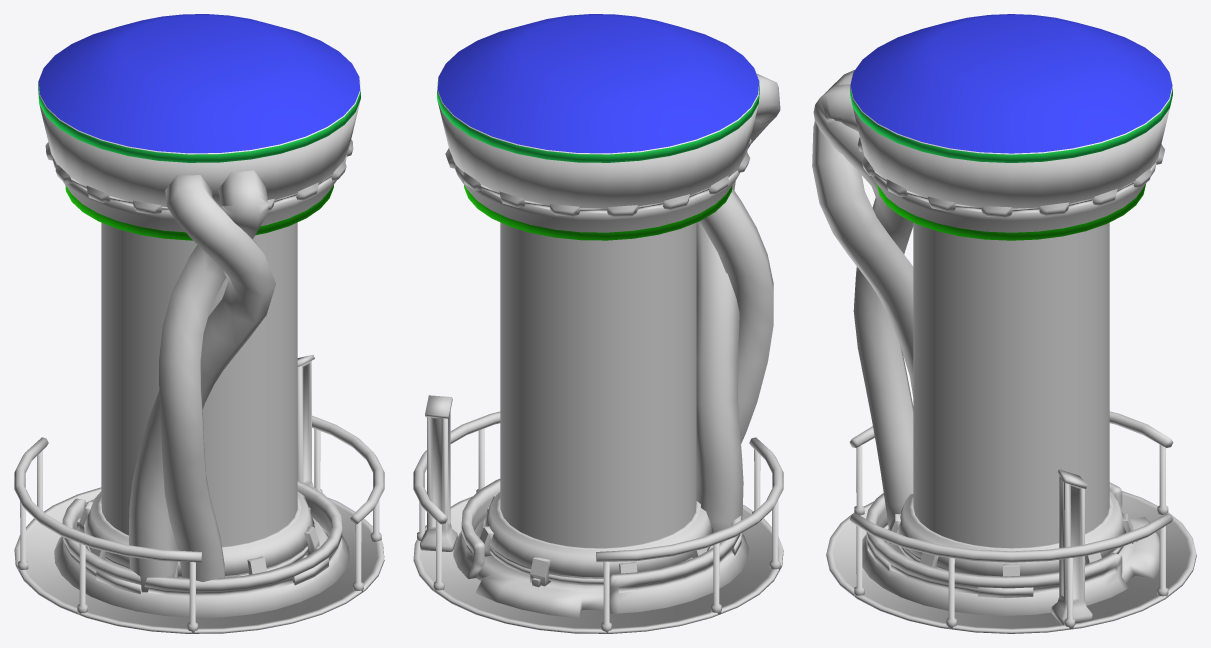
File: Cuve Low3.fbx
3 views of the same model, side by side, from view 1: azimuth 30°, elevation 25°; view 2: azimuth 150°, elevation 25°; view 3: azimuth 270°, elevation 25° (orthographic).
Parts seen in each view (by area): view 1: cuve_cage, Chapeau, Vitre, Led haut; view 2: cuve_cage, Vitre, Chapeau, Led haut; view 3: cuve_cage, Vitre, Chapeau, Led haut.
Part boxes in pixels (box(x1,y1,x2,y2)): cuve_cage: box(14, 100, 384, 633); Chapeau: box(38, 14, 360, 162); Vitre: box(101, 222, 297, 546); Led haut: box(45, 139, 353, 214); cuve_cage: box(413, 73, 783, 633); Vitre: box(500, 222, 696, 548); Chapeau: box(437, 14, 759, 162); Led haut: box(445, 138, 751, 217); cuve_cage: box(812, 70, 1196, 633); Vitre: box(913, 222, 1109, 548); Chapeau: box(850, 14, 1172, 162); Led haut: box(858, 137, 1164, 217).
Bounding box in the file's own units: 267 × 407 × 276.
